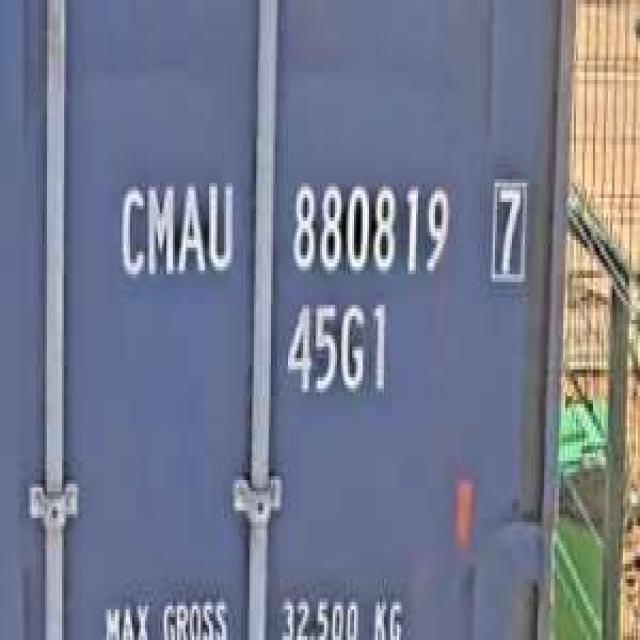dv: (484, 168, 531, 290)
owner: (113, 164, 237, 289)
serial: (284, 171, 454, 286)
size: (282, 293, 392, 408)
